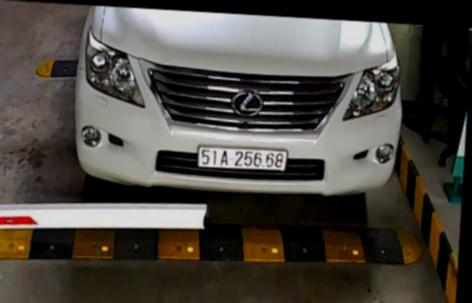License_Plate: (196, 140, 290, 175)
